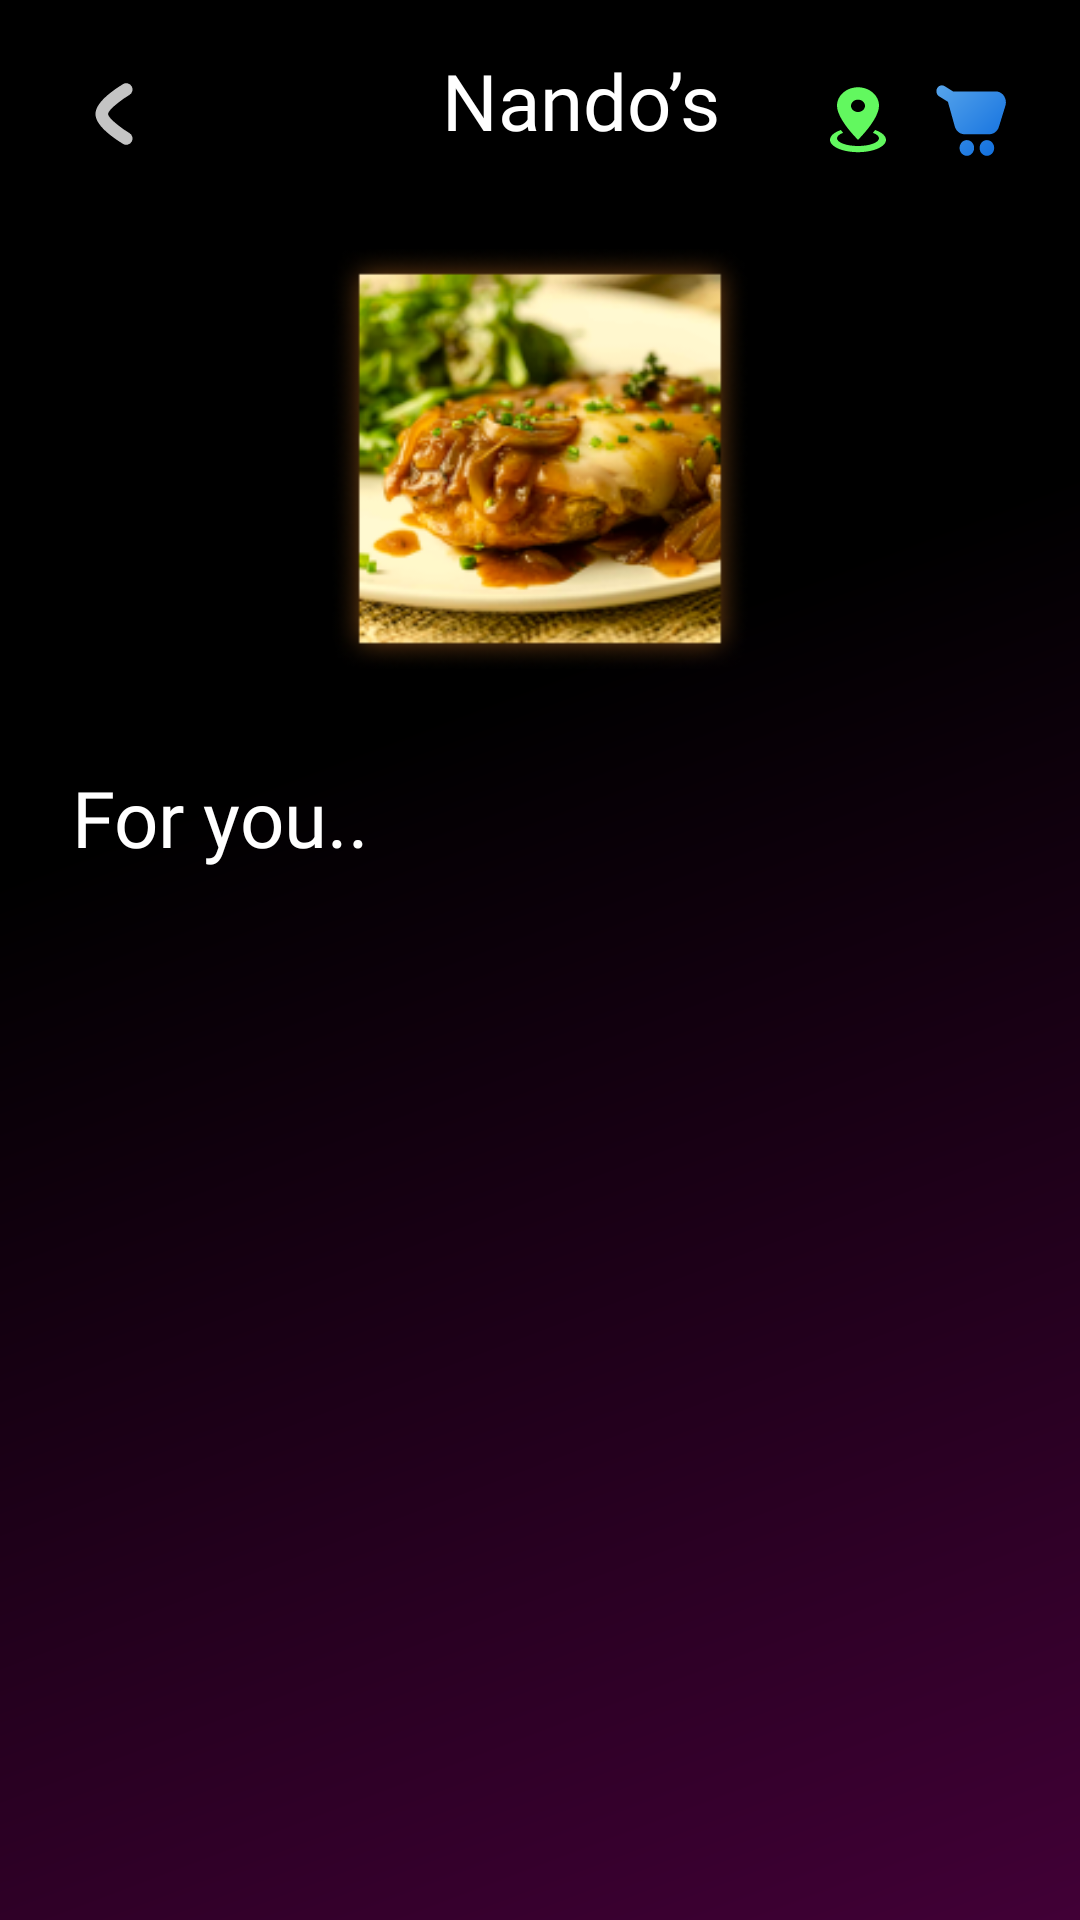

Screen size 1080w x 1920h. Icon name, then its center in pixels as (x=x, y=y):
back: (x=114, y=114)
cart: (x=971, y=120)
maps: (x=858, y=120)
